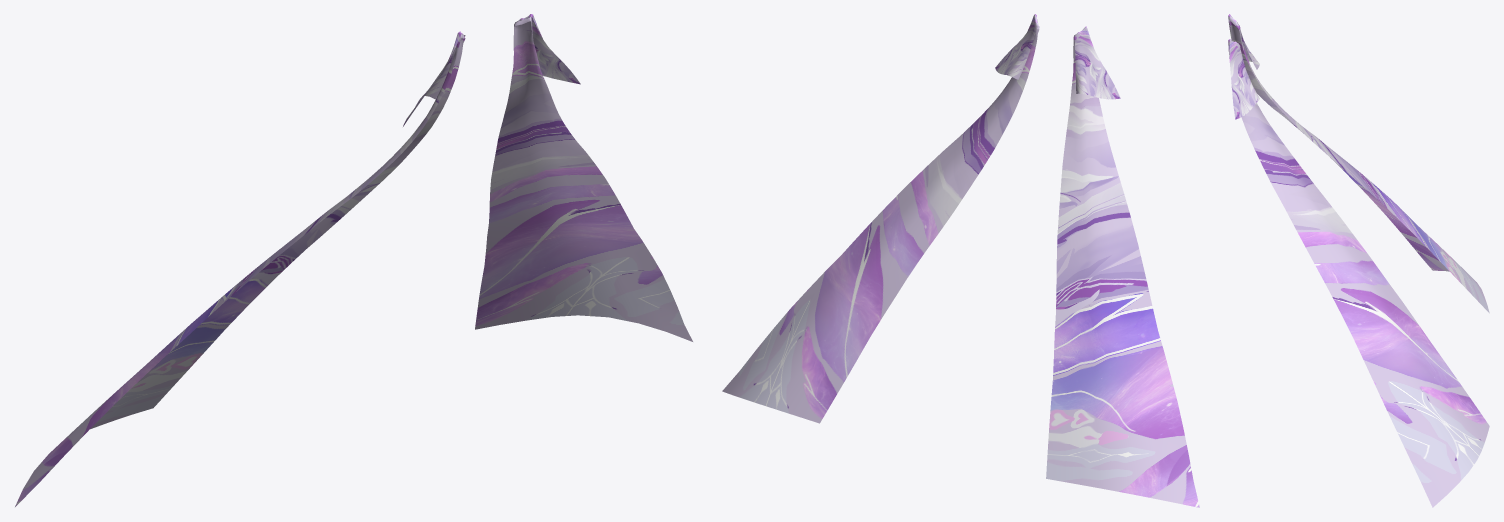
Rendered from Special.glb.
The picture shows the model from 3 angles, left to right: view 1: azimuth 30°, elevation 25°; view 2: azimuth 150°, elevation 25°; view 3: azimuth 270°, elevation 25°; orthographic projection. The views are drawn at different scales.
Parts seen in each view (by area): view 1: cyrene_00_model_special_LOD0; view 2: cyrene_00_model_special_LOD0; view 3: cyrene_00_model_special_LOD0.
Boxes of the visible parts, x1,y1,x2,y2 form: cyrene_00_model_special_LOD0: (15, 14, 692, 506); cyrene_00_model_special_LOD0: (722, 14, 1199, 507); cyrene_00_model_special_LOD0: (1228, 14, 1489, 507).
Bounding box in the file's own units: 1.77 × 1.26 × 0.8259.
Materials: 1 (1 with a texture image).
